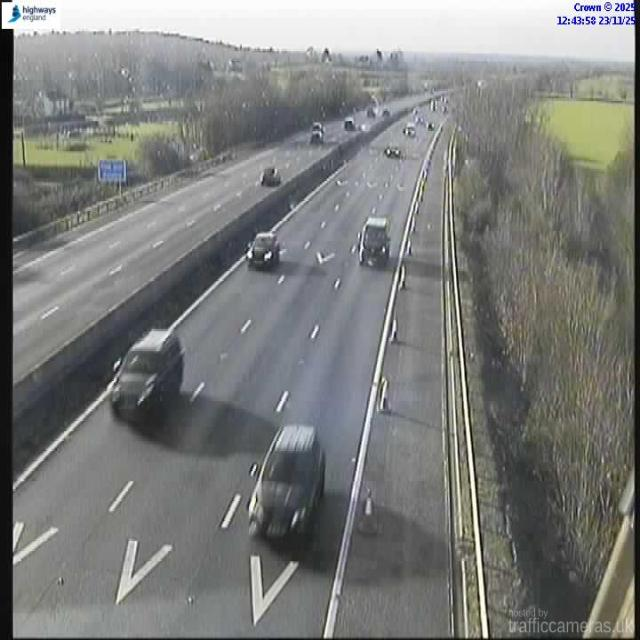foliage: (452, 78, 636, 620), (202, 71, 364, 154), (13, 177, 112, 236), (137, 134, 184, 177)
